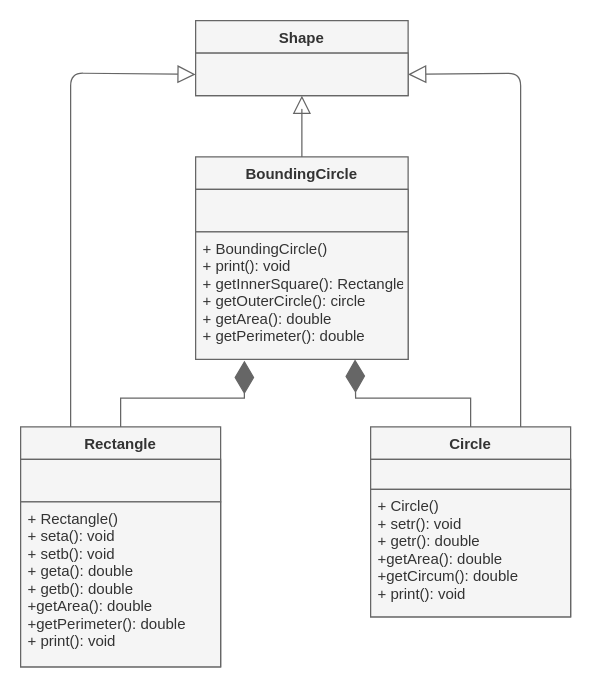
This 591x688 diagram has some shape labels left out. The centre of each missing label's shape, as x and y in pixels:
"- a: double - b: double" goes at (120,480).
"- innerSquare: Rectangle - outerCircle: circle" goes at (301,210).
"- r: double" goes at (470,473).
"{virtual} + print(): void" goes at (301,74).
